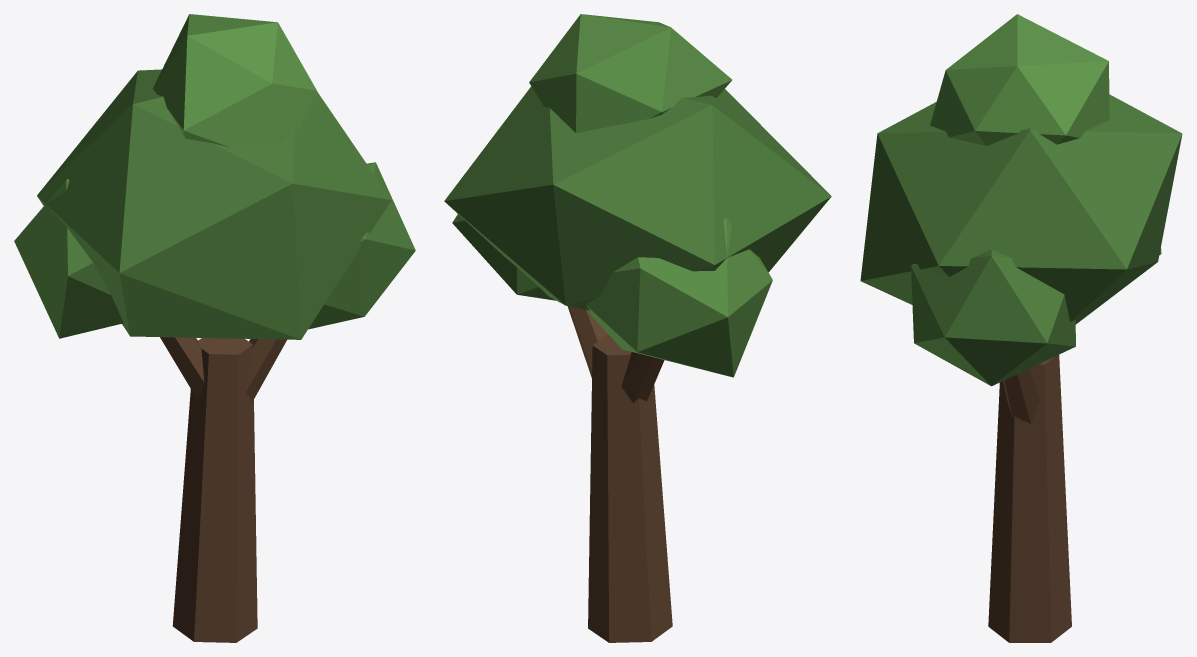
Rendered from nat-carvalho.gltf.
The picture shows the model from 3 angles, left to right: view 1: azimuth 30°, elevation 25°; view 2: azimuth 150°, elevation 25°; view 3: azimuth 270°, elevation 25°; orthographic projection.
Visible parts, largest first — view 1: nat-carvalho; view 2: nat-carvalho; view 3: nat-carvalho.
Boxes of the visible parts, x1,y1,x2,y2 form: nat-carvalho: [14, 14, 415, 642]; nat-carvalho: [444, 14, 831, 642]; nat-carvalho: [860, 14, 1182, 642].
Bounding box in the file's own units: 1.13 × 2.05 × 0.9999.
